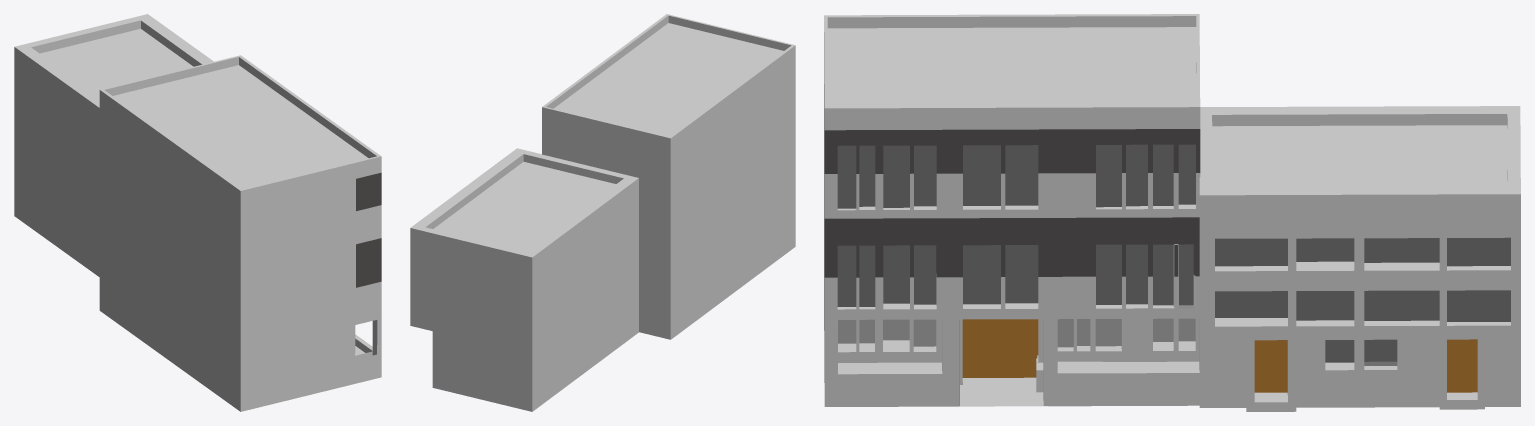
The model's file is Building14th.glb.
The picture shows the model from 3 angles, left to right: view 1: azimuth 30°, elevation 25°; view 2: azimuth 150°, elevation 25°; view 3: azimuth 270°, elevation 25°; orthographic projection. The views are drawn at different scales.
Visible parts, largest first — view 1: Cube.207; view 2: Cube.207; view 3: Cube.207.
Part boxes in pixels (bbox=[...]): Cube.207: bbox=[14, 14, 381, 411]; Cube.207: bbox=[410, 14, 795, 411]; Cube.207: bbox=[824, 14, 1520, 411].
Size of the model in its own units: 2.27 by 2.85 by 6.01.
